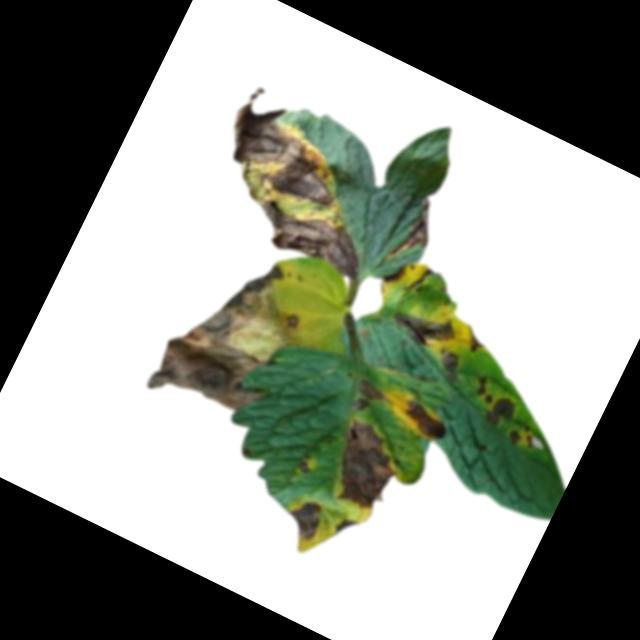Early_blight: (143, 234, 322, 439), (213, 83, 380, 224), (232, 181, 375, 285), (315, 412, 413, 518), (385, 296, 459, 359), (386, 192, 445, 269), (391, 392, 457, 448), (281, 489, 330, 543), (347, 377, 390, 421), (485, 392, 521, 429), (504, 418, 540, 453), (458, 327, 491, 360), (436, 350, 470, 382), (331, 511, 361, 542), (471, 375, 502, 404), (381, 262, 409, 291), (297, 449, 318, 476)
